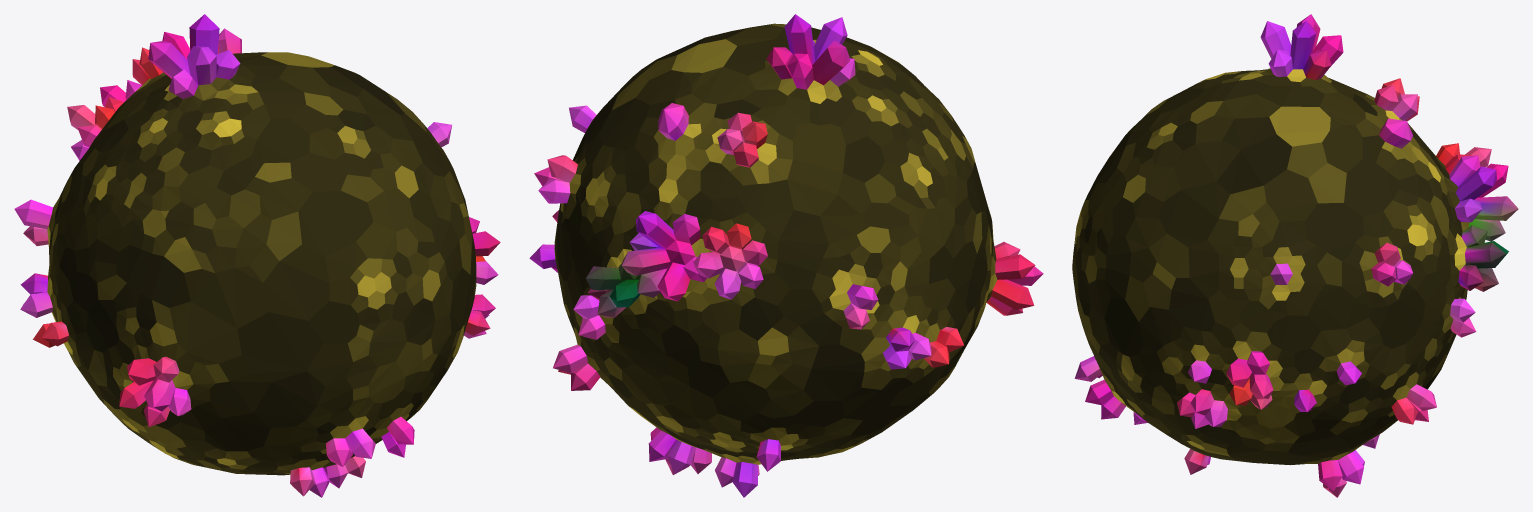
Rendered from Crystal_planet_18.fbx.
3 renders of one model, left to right at view 1: azimuth 30°, elevation 25°; view 2: azimuth 150°, elevation 25°; view 3: azimuth 270°, elevation 25°, orthographic. The views are drawn at different scales.
Visible parts, largest first — view 1: file6; view 2: file6; view 3: file6.
Boxes of the visible parts, x1,y1,x2,y2 form: file6: [14, 14, 500, 497]; file6: [529, 14, 1043, 497]; file6: [1072, 14, 1518, 497].
Size of the model in its own units: 2.3 by 2.4 by 2.25.
